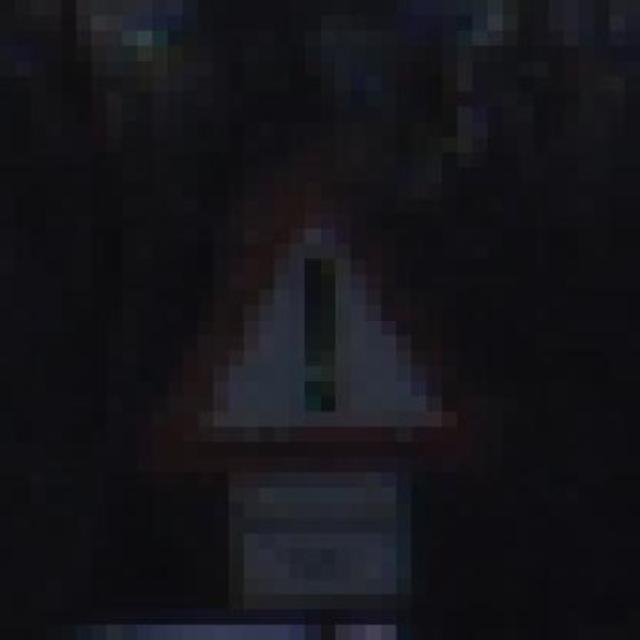Attention Please-: (105, 160, 518, 495)
